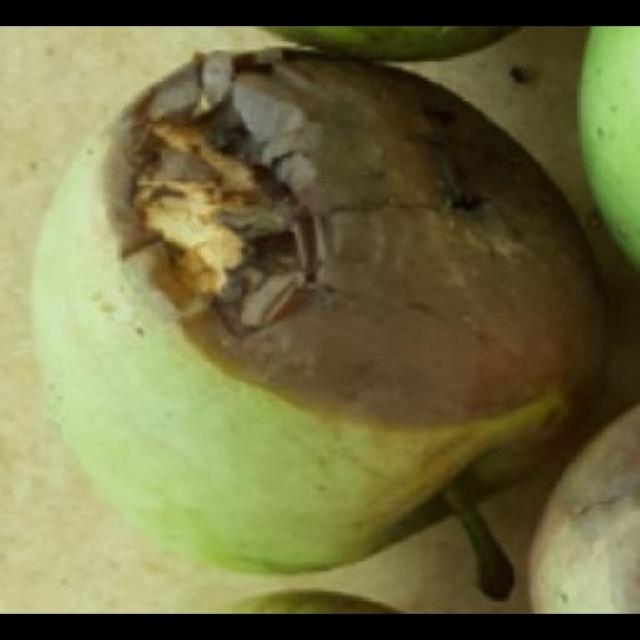Rotten Apple: (26, 43, 606, 580)
